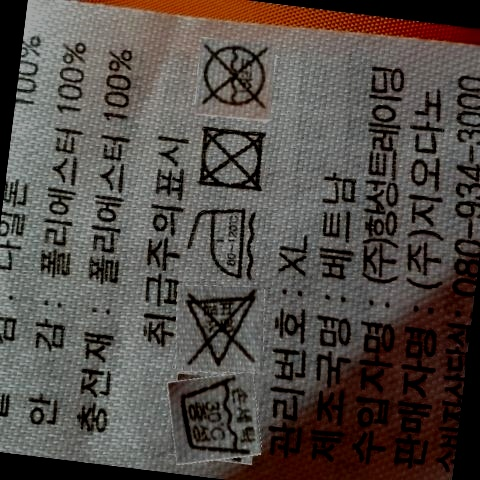DN_dry_clean: (197, 42, 274, 110)
DN_tumble_dry: (196, 124, 270, 192)
hand_wash: (175, 375, 262, 462)
iron_low: (190, 201, 260, 283)
non_chlorine_bleach: (188, 288, 263, 369)
